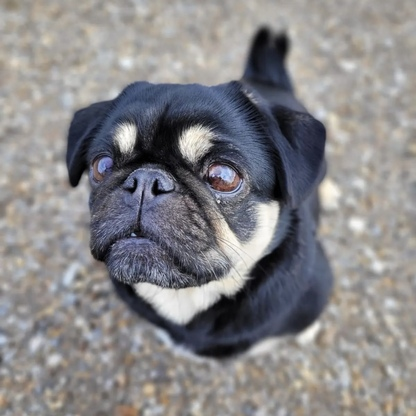Pug: (62, 18, 348, 373)
